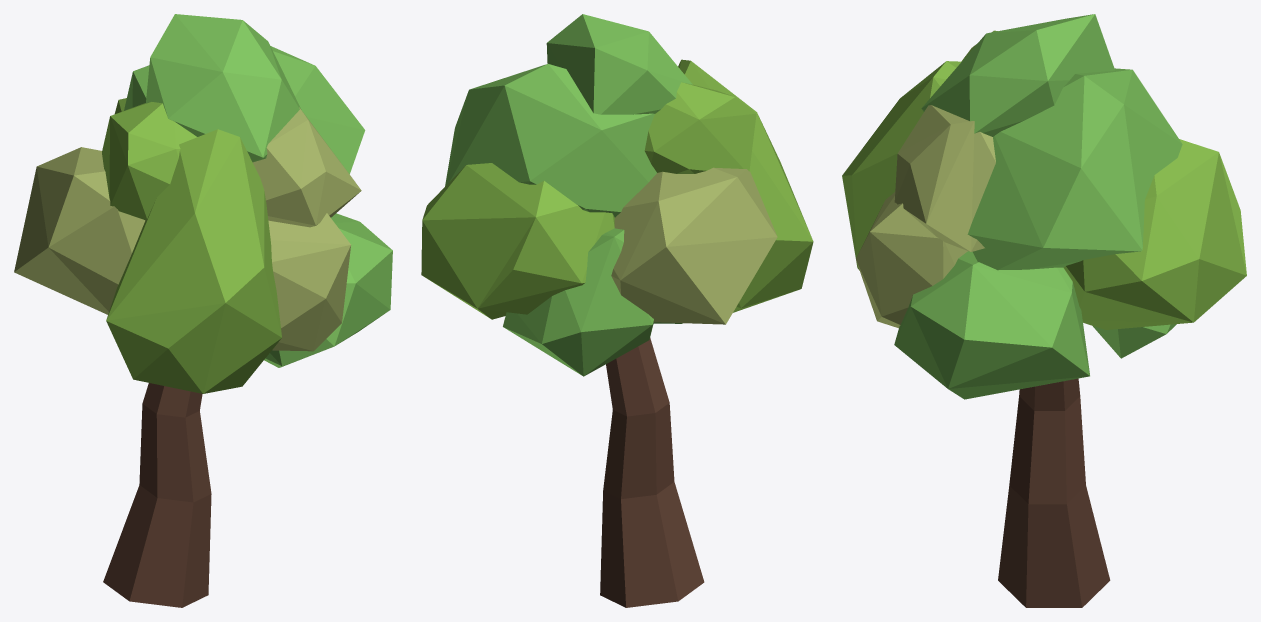
The model's file is Tree5.fbx.
3 views of the same model, side by side, from view 1: azimuth 30°, elevation 25°; view 2: azimuth 150°, elevation 25°; view 3: azimuth 270°, elevation 25° (orthographic). The views are drawn at different scales.
Parts seen in each view (by area): view 1: Tree Crown Triangle.048, Tree Trunk.001, Tree Crown Triangle.057, Tree Crown Triangle.043, Tree Crown Triangle.058, Tree Crown Triangle.055, Tree Crown Triangle.050, Tree Crown Triangle.047, Tree Crown Triangle.046; view 2: Tree Crown Triangle.044, Tree Crown Triangle.043, Tree Crown Triangle.046, Tree Trunk.001, Tree Crown Triangle.051, Tree Crown Triangle.057, Tree Crown Triangle.050, Tree Crown Triangle.048; view 3: Tree Crown Triangle.046, Tree Crown Triangle.047, Tree Crown Triangle.044, Tree Trunk.001, Tree Crown Triangle.057, Tree Crown Triangle.055, Tree Crown Triangle.058, Tree Crown Triangle.048, Tree Crown Triangle.051.
Part boxes in pixels (x1=…): Tree Crown Triangle.048: x1=106, y1=129, x2=281, y2=393; Tree Trunk.001: x1=103, y1=383, x2=211, y2=607; Tree Crown Triangle.057: x1=145, y1=14, x2=301, y2=162; Tree Crown Triangle.043: x1=14, y1=147, x2=145, y2=314; Tree Crown Triangle.058: x1=268, y1=213, x2=350, y2=351; Tree Crown Triangle.055: x1=252, y1=107, x2=361, y2=227; Tree Crown Triangle.050: x1=102, y1=102, x2=197, y2=220; Tree Crown Triangle.047: x1=264, y1=213, x2=392, y2=367; Tree Crown Triangle.046: x1=124, y1=46, x2=365, y2=174; Tree Crown Triangle.044: x1=421, y1=163, x2=614, y2=319; Tree Crown Triangle.043: x1=611, y1=167, x2=777, y2=324; Tree Crown Triangle.046: x1=445, y1=64, x2=656, y2=217; Tree Trunk.001: x1=600, y1=337, x2=704, y2=607; Tree Crown Triangle.051: x1=503, y1=228, x2=653, y2=376; Tree Crown Triangle.057: x1=546, y1=14, x2=692, y2=114; Tree Crown Triangle.050: x1=644, y1=82, x2=756, y2=173; Tree Crown Triangle.048: x1=678, y1=59, x2=813, y2=312; Tree Crown Triangle.046: x1=967, y1=68, x2=1182, y2=270; Tree Crown Triangle.047: x1=894, y1=251, x2=1089, y2=399; Tree Crown Triangle.044: x1=1063, y1=139, x2=1246, y2=329; Tree Trunk.001: x1=998, y1=378, x2=1110, y2=607; Tree Crown Triangle.057: x1=921, y1=14, x2=1114, y2=136; Tree Crown Triangle.055: x1=894, y1=105, x2=995, y2=251; Tree Crown Triangle.058: x1=856, y1=192, x2=967, y2=328; Tree Crown Triangle.048: x1=842, y1=61, x2=961, y2=270; Tree Crown Triangle.051: x1=1093, y1=324, x2=1176, y2=358.
Bounding box in the file's own units: 108 × 180 × 111.
